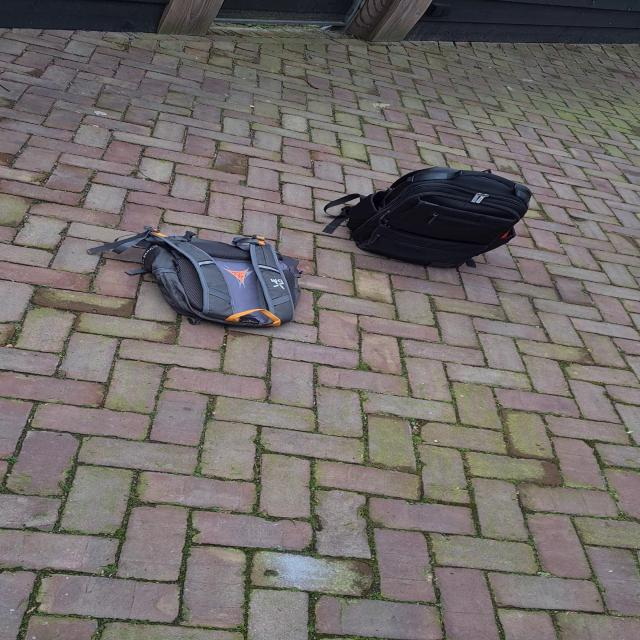backpack: (334, 162, 539, 270), (122, 226, 309, 328)
